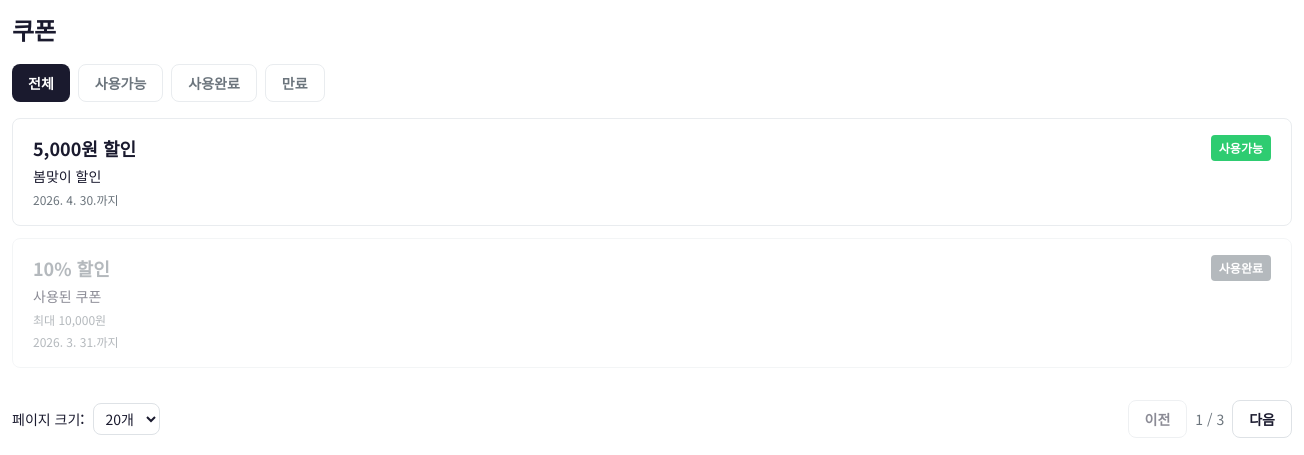
Scenario: CouponList › 페이지네이션 › 다음 버튼 클릭 시 다음 페이지를 로드한다
Check: the number of elements with test id "coupon-card" is 2, box [12,118,1292,226]; [12,238,1292,368]
Click the button with aria-label "다음 페이지" at (1262, 419), box [1232,400,1292,438]
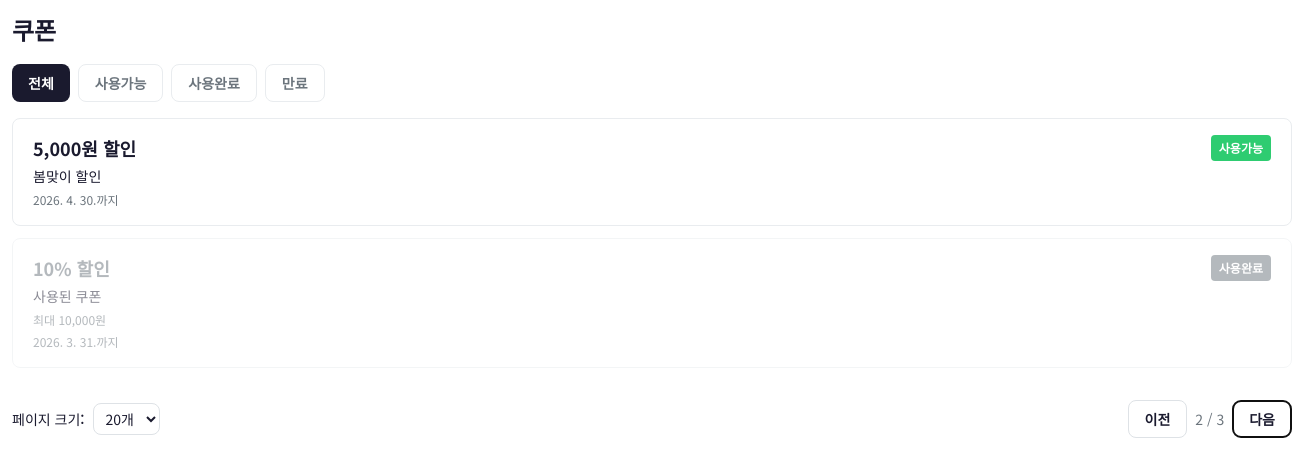
Check: the text "2 / 3" is shown, box [1195,408,1224,430]
